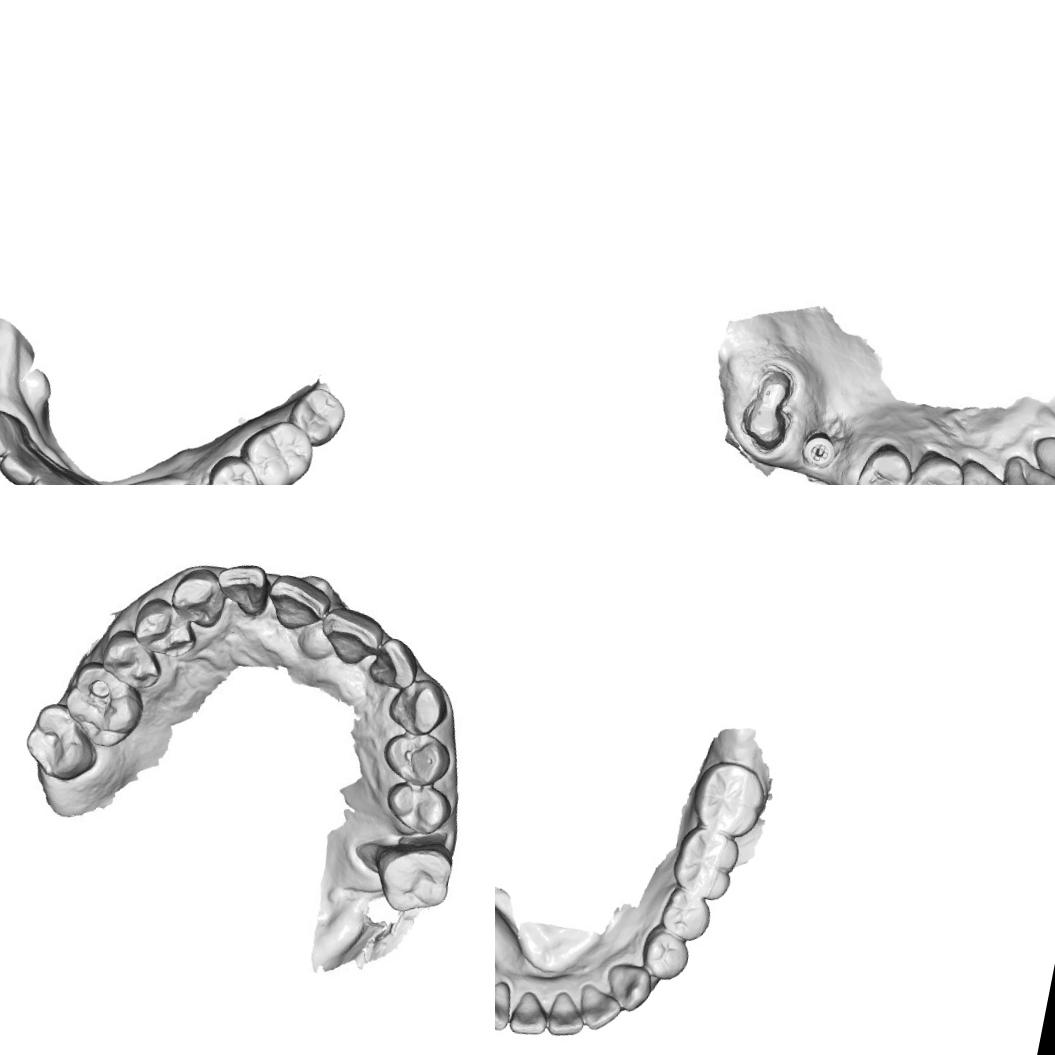canine: (169, 564, 227, 630), (386, 670, 448, 728), (599, 959, 656, 1014), (950, 456, 1020, 485), (0, 400, 28, 468)
crown: (732, 361, 802, 460)
implant_plus: (797, 428, 839, 474)
incisor: (263, 571, 332, 637), (312, 604, 383, 667), (359, 633, 422, 696), (216, 556, 269, 614), (573, 981, 625, 1034), (544, 987, 590, 1040), (507, 987, 552, 1038), (0, 441, 47, 485), (994, 452, 1055, 485), (1023, 428, 1055, 485), (495, 974, 519, 1034), (26, 463, 72, 485)
molar: (368, 840, 464, 925), (64, 664, 148, 748), (686, 756, 769, 839), (231, 412, 319, 485), (666, 822, 744, 903), (18, 702, 92, 783), (282, 381, 352, 454)
premolar: (128, 594, 198, 659), (377, 734, 449, 794), (386, 772, 454, 834), (656, 882, 717, 946), (636, 922, 694, 984), (101, 631, 159, 691), (847, 438, 914, 485), (898, 446, 970, 485), (201, 448, 265, 485)
